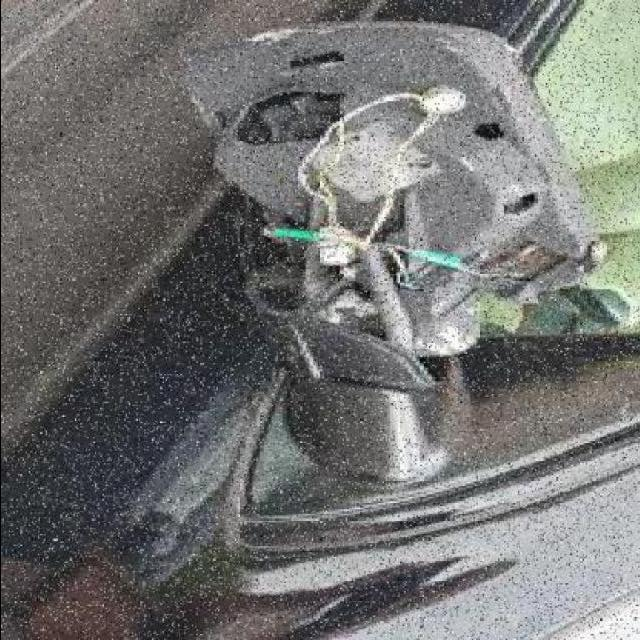Sidemirror-Damage: (173, 25, 609, 393)
